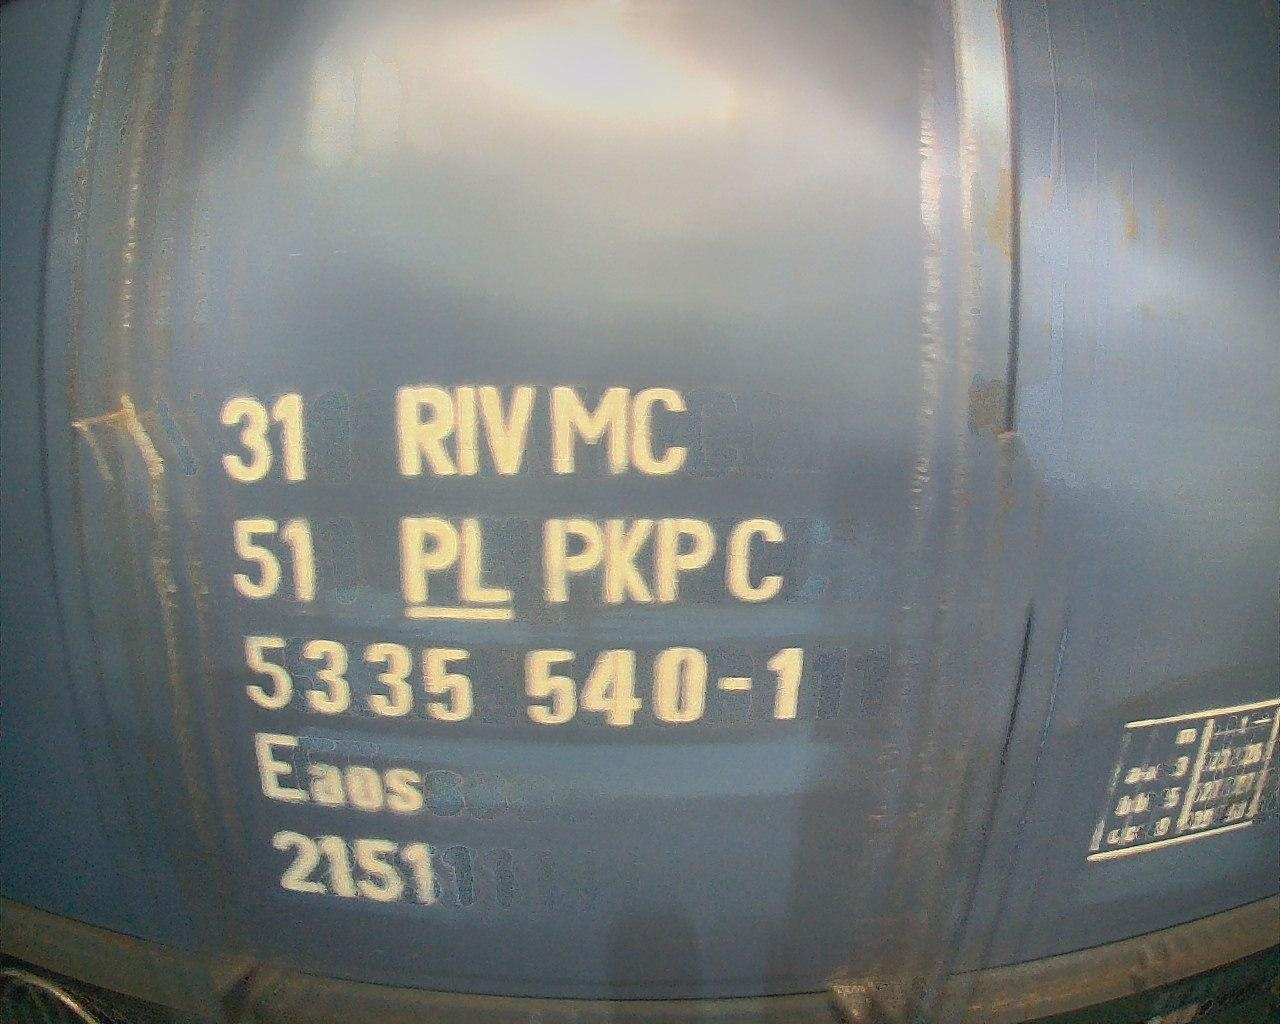UIC: (216, 377, 811, 907)
